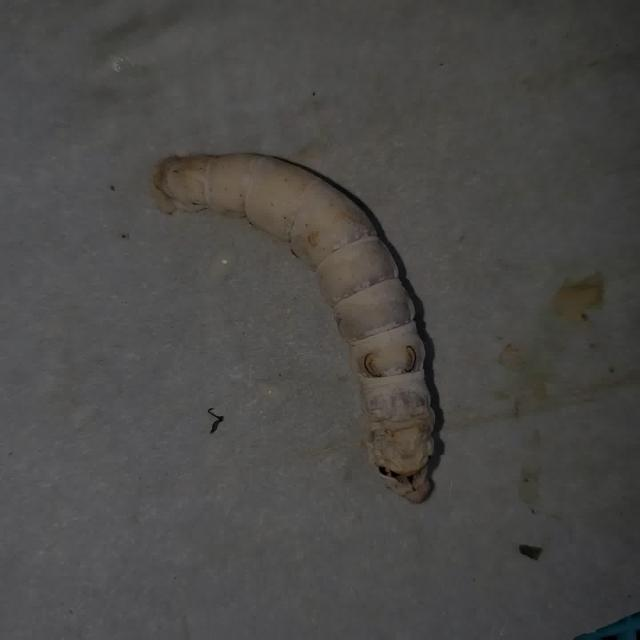Grasserie: (147, 128, 492, 511)
